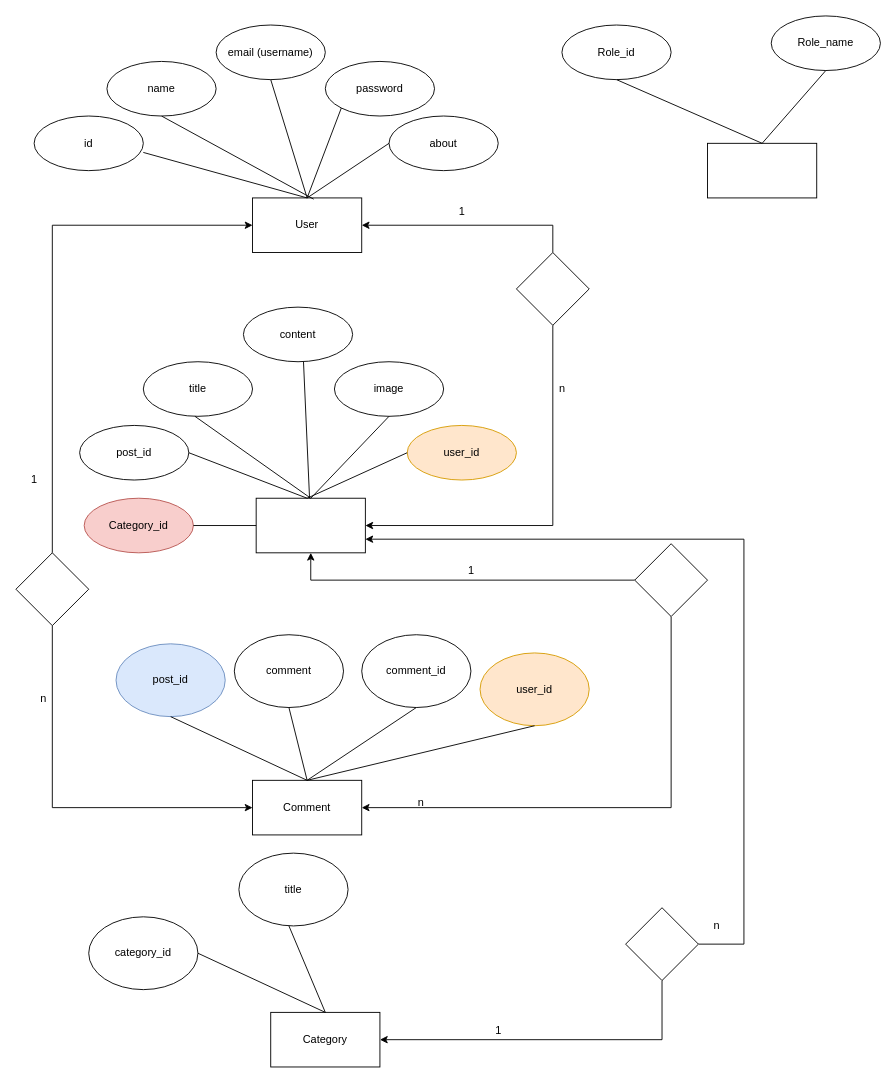
Image size: 896x1083. Some labels were removed from this diagram. The shapes that lost their labels are listed below. From the top down, each one's centre as x and y in pixels, then its label:
At (x=762, y=170): "Role".
At (x=552, y=288): "ca create".
At (x=310, y=525): "Post".
At (x=52, y=589): "do".
At (x=671, y=580): "have".
At (x=661, y=944): "Contains".
